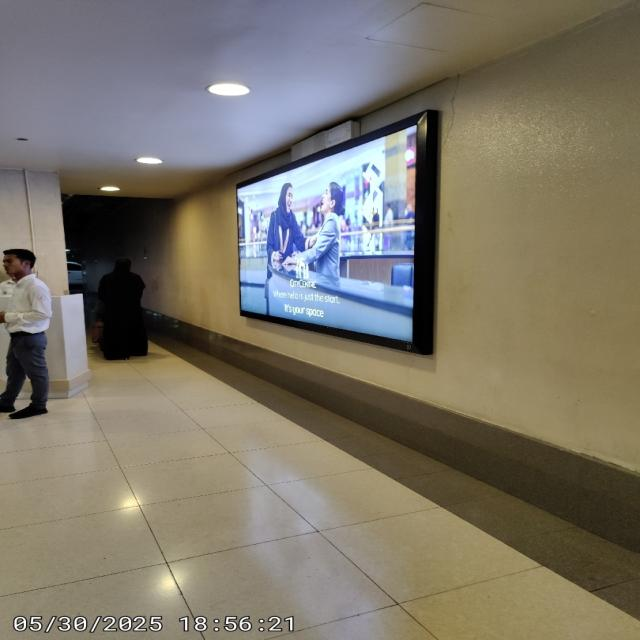digital-board-medium: (235, 120, 419, 347)
